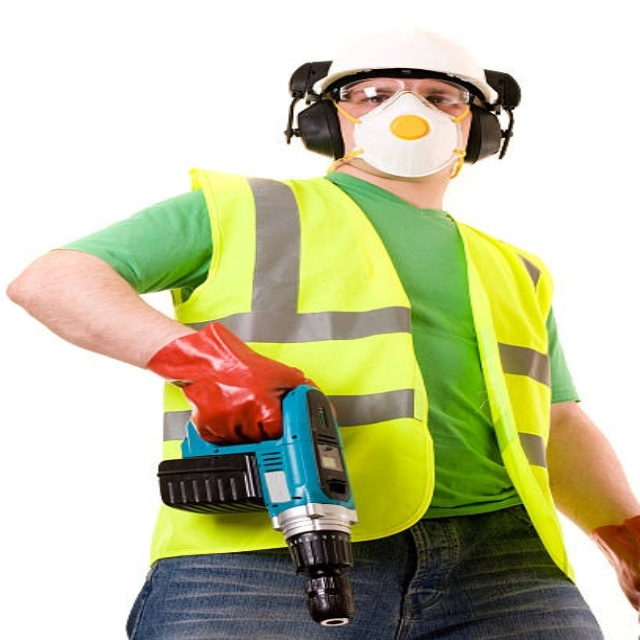Gafas: (333, 81, 475, 114)
Guantes: (146, 322, 317, 443)
Mascara: (346, 86, 465, 179)
Sin_guantes: (589, 514, 639, 613)
